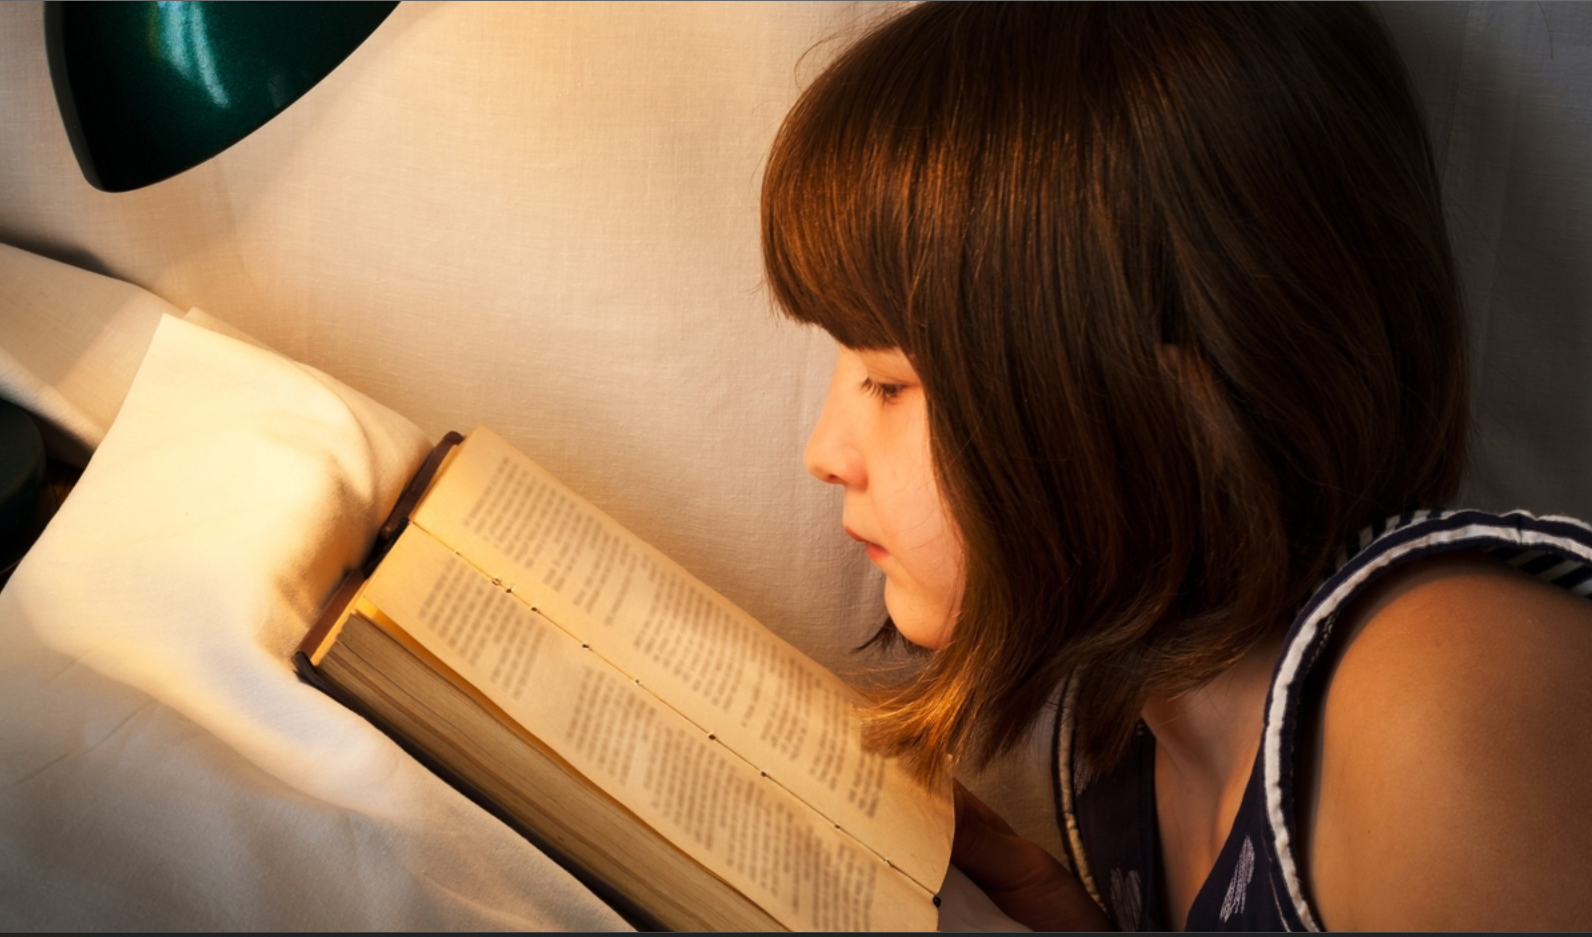book: (298, 421, 961, 937)
